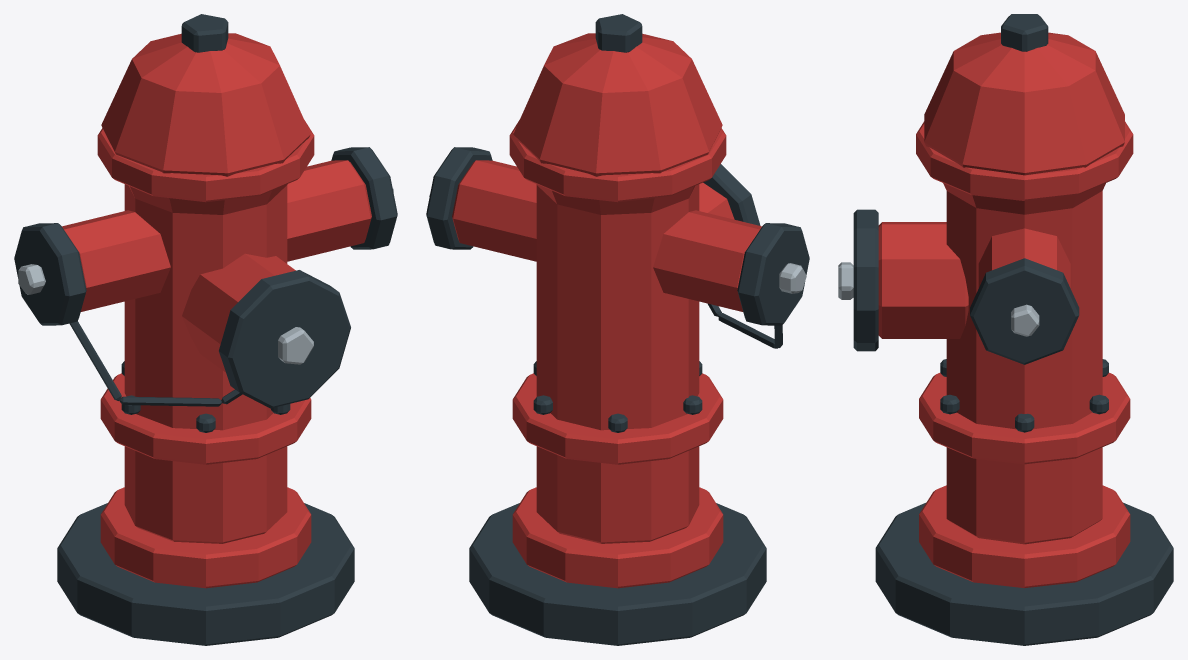
Rendered from b05_classic_fire_hydrant.glb.
3 renders of one model, left to right at view 1: azimuth 30°, elevation 25°; view 2: azimuth 150°, elevation 25°; view 3: azimuth 270°, elevation 25°, orthographic.
Visible parts, largest first — view 1: b05_classic_fire_hydrant; view 2: b05_classic_fire_hydrant; view 3: b05_classic_fire_hydrant.
Part boxes in pixels (box(x1,y1,x2,y2)): b05_classic_fire_hydrant: box(14, 14, 397, 645); b05_classic_fire_hydrant: box(426, 14, 809, 645); b05_classic_fire_hydrant: box(838, 14, 1173, 645).
Bounding box in the file's own units: 0.68 × 1 × 0.54.
